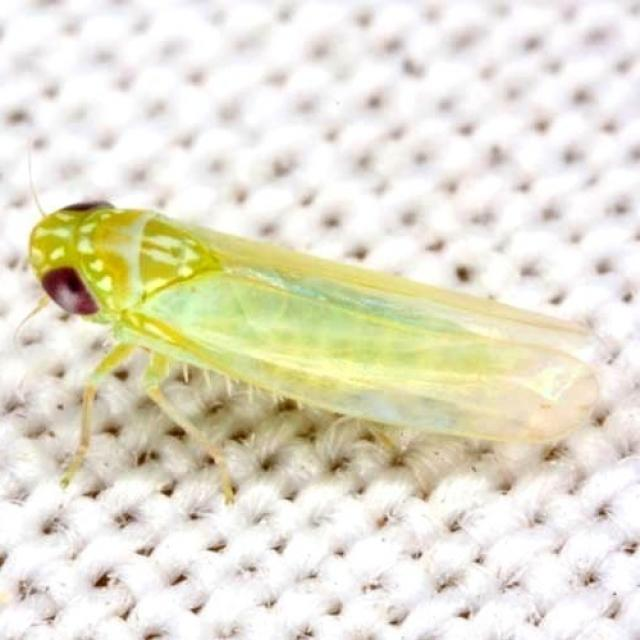Yechan: (17, 184, 615, 458)
